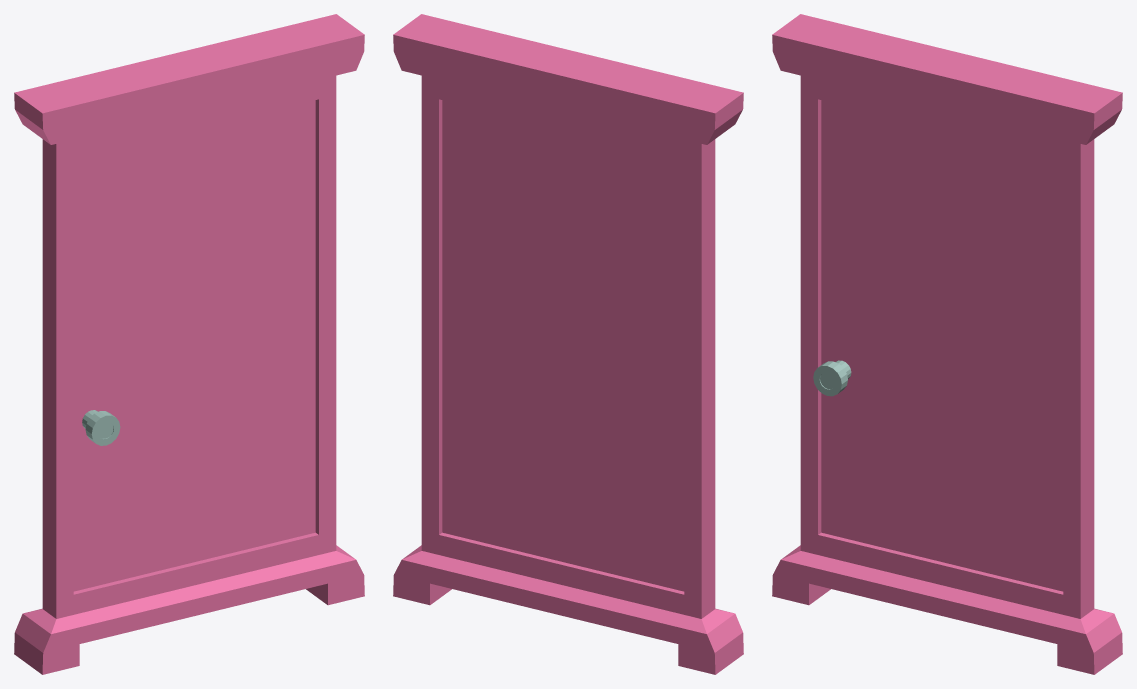
File: door.glb
3 renders of one model, left to right at view 1: azimuth 30°, elevation 25°; view 2: azimuth 150°, elevation 25°; view 3: azimuth 330°, elevation 25°, orthographic.
Parts seen in each view (by area): view 1: Door, Knob; view 2: Door; view 3: Door, Knob.
Part boxes in pixels (x1=…): Door: x1=14, y1=14, x2=364, y2=674; Knob: x1=82, y1=410, x2=120, y2=445; Door: x1=393, y1=14, x2=743, y2=674; Door: x1=772, y1=14, x2=1122, y2=674; Knob: x1=813, y1=360, x2=851, y2=396.
Bounding box in the file's own units: 2.87 × 4.78 × 0.5009.
